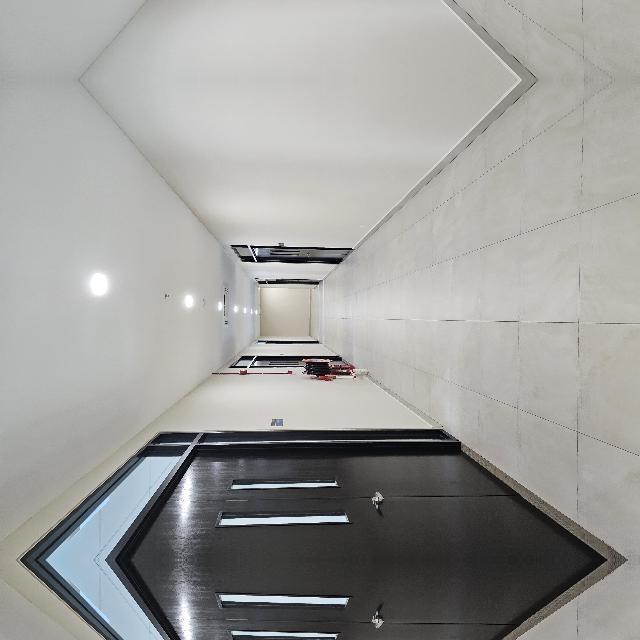door: (0, 208, 125, 640), (0, 458, 125, 640), (296, 332, 318, 432)
obstacle: (177, 379, 203, 451)
